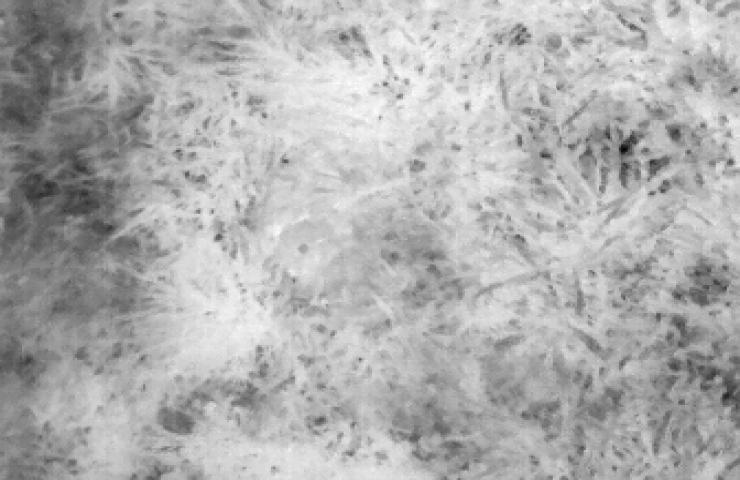landmines: (270, 210, 349, 286)
